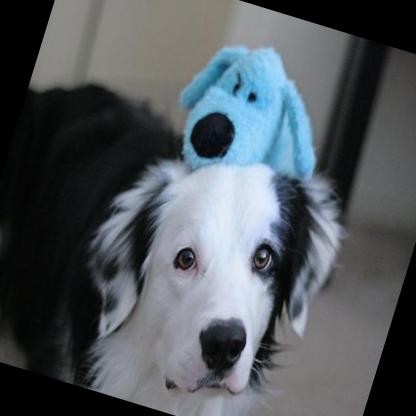Border_collie: (0, 54, 377, 416)
